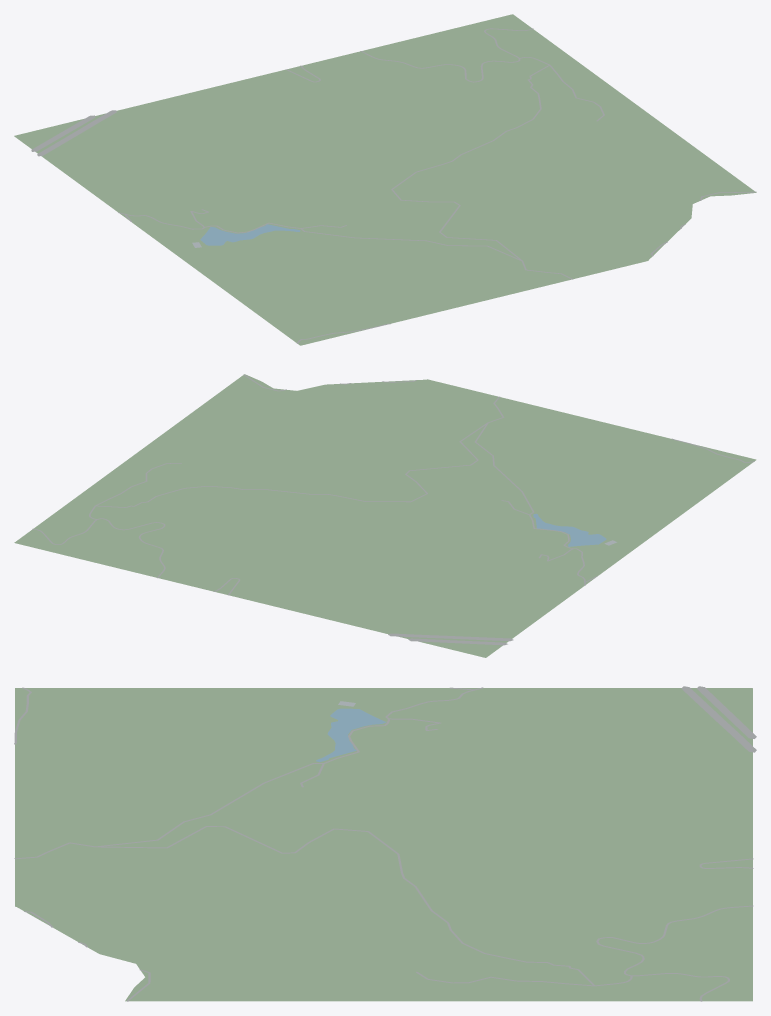
The model's file is -3_5-known-fine.glb.
The picture shows the model from 3 angles, top to bottom: view 1: azimuth 30°, elevation 25°; view 2: azimuth 150°, elevation 25°; view 3: azimuth 270°, elevation 25°; orthographic projection. The views are drawn at different scales.
Size of the model in its own units: 1007 by 0.15 by 1002.
